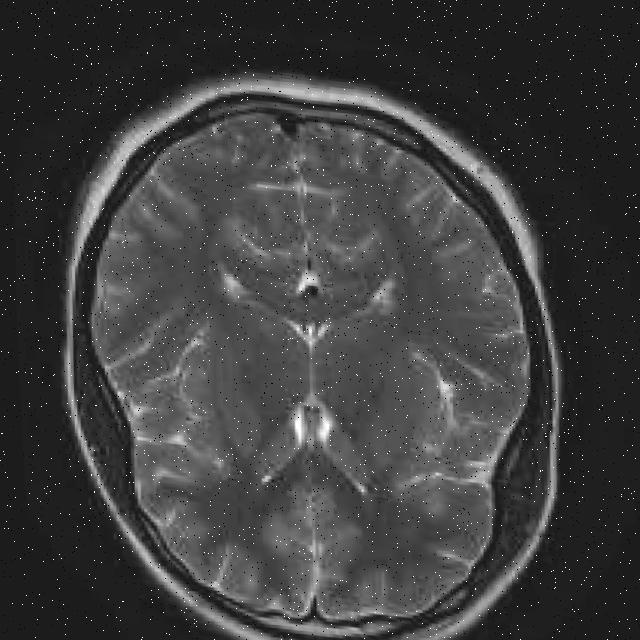NoTumor: (31, 48, 588, 640)
